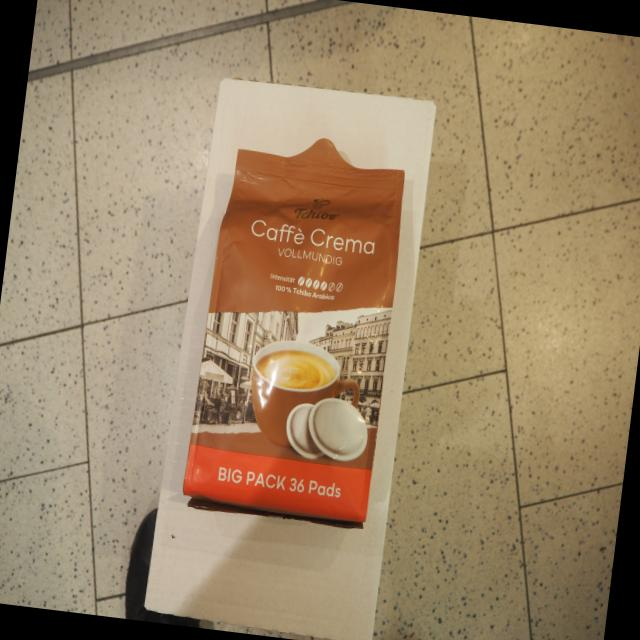CC Vollmundig: (171, 118, 418, 536)
